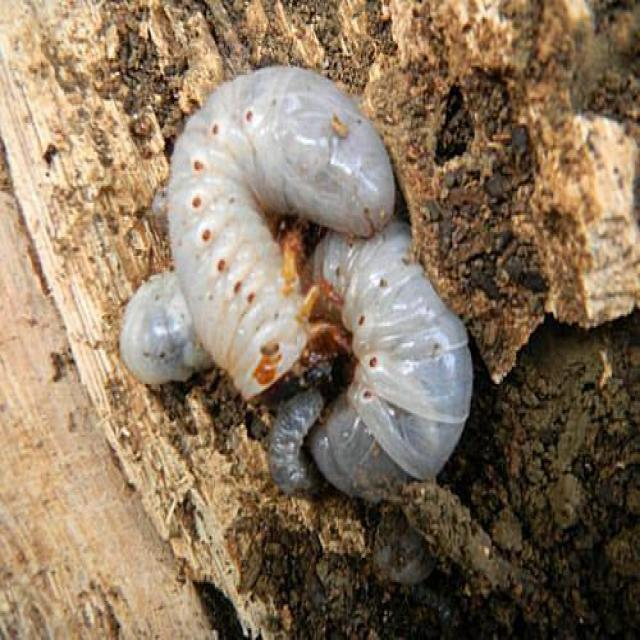Grub-Adult-: (148, 48, 382, 386), (298, 213, 487, 520)
